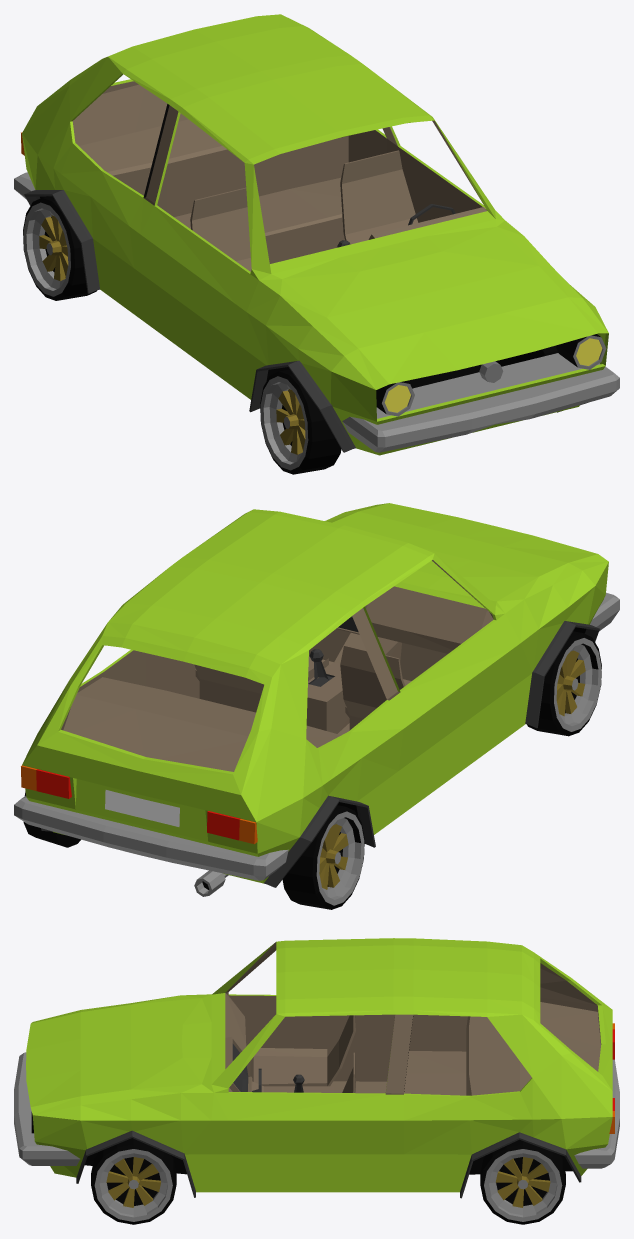
The model's file is Carrito.fbx.
3 renders of one model, top to bottom at view 1: azimuth 30°, elevation 25°; view 2: azimuth 150°, elevation 25°; view 3: azimuth 270°, elevation 25°, orthographic. The views are drawn at different scales.
Parts seen in each view (by area): view 1: Body, Body3, Body.001, WheelFR, WheelR, Body2, Body6; view 2: Body, Body4, WheelR, Body.001, WheelFR, Body2, Body5, Body3, Exhaust; view 3: Body, WheelFL, WheelR, Body.001, Body3, Body2, Body4.
Boxes of the visible parts, x1,y1,x2,y2 form: Body: [22, 14, 608, 455]; Body3: [342, 353, 619, 452]; Body.001: [190, 150, 418, 271]; WheelFR: [260, 369, 341, 474]; WheelR: [23, 196, 96, 300]; Body2: [24, 190, 355, 452]; Body6: [376, 334, 606, 416]; Body: [22, 503, 608, 883]; Body4: [14, 796, 288, 880]; WheelR: [23, 791, 364, 909]; Body.001: [194, 645, 407, 730]; WheelFR: [527, 631, 601, 736]; Body2: [41, 621, 599, 887]; Body5: [21, 765, 257, 844]; Body3: [590, 592, 619, 631]; Exhaust: [194, 870, 228, 896]; Body: [26, 938, 612, 1192]; WheelFL: [91, 1138, 176, 1224]; WheelR: [480, 1139, 565, 1224]; Body.001: [250, 1015, 355, 1092]; Body3: [14, 1052, 80, 1165]; Body2: [76, 1130, 581, 1198]; Body4: [574, 1059, 619, 1168].
Size of the model in its own units: 190 by 147 by 406.
